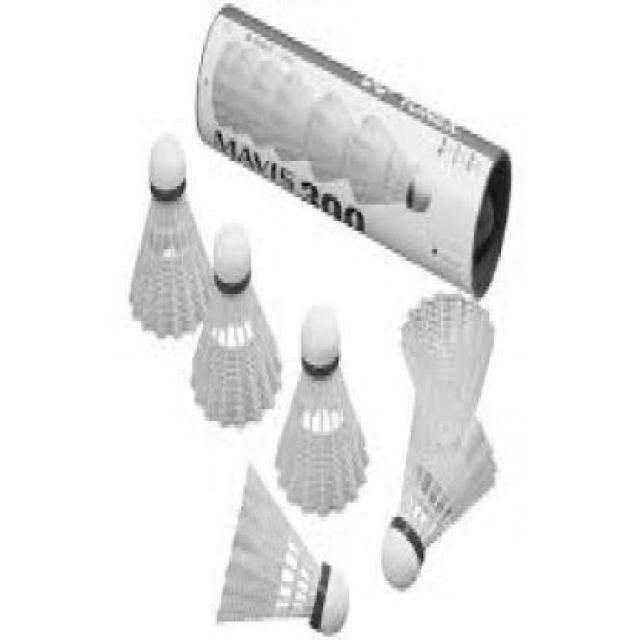Shuttlecock: (380, 294, 494, 595), (214, 463, 352, 639), (123, 129, 215, 342)
